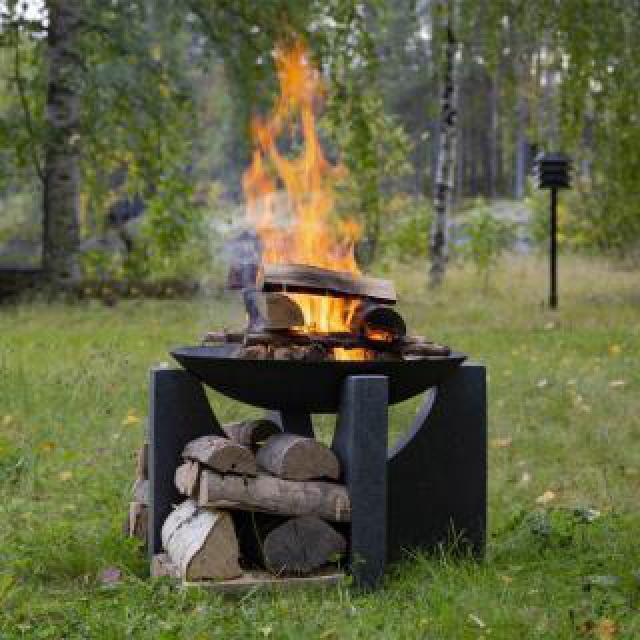Fire: (262, 48, 360, 318)
Smoke: (150, 12, 246, 324)
